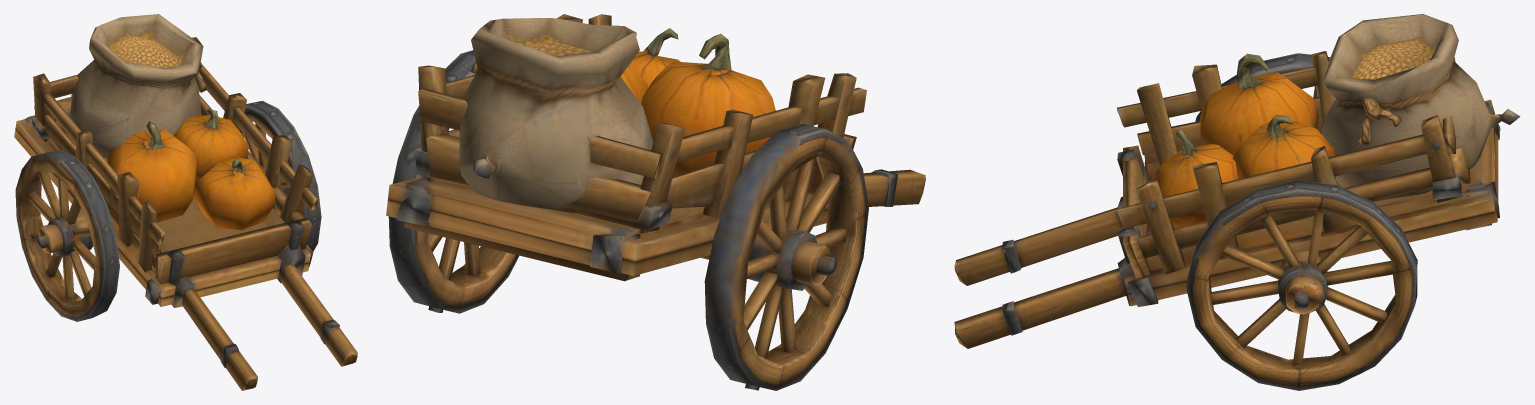
Rendered from cart.glb.
3 views of the same model, side by side, from view 1: azimuth 30°, elevation 25°; view 2: azimuth 150°, elevation 25°; view 3: azimuth 270°, elevation 25° (orthographic). The views are drawn at different scales.
Parts seen in each view (by area): view 1: cart; view 2: cart; view 3: cart.
Part boxes in pixels (x1,y1,x2,y2): cart: (14,14,357,390); cart: (386,14,925,390); cart: (954,14,1520,390).
Bounding box in the file's own units: 0.8252 × 0.689 × 1.2.
Materials: 1 (1 with a texture image).
